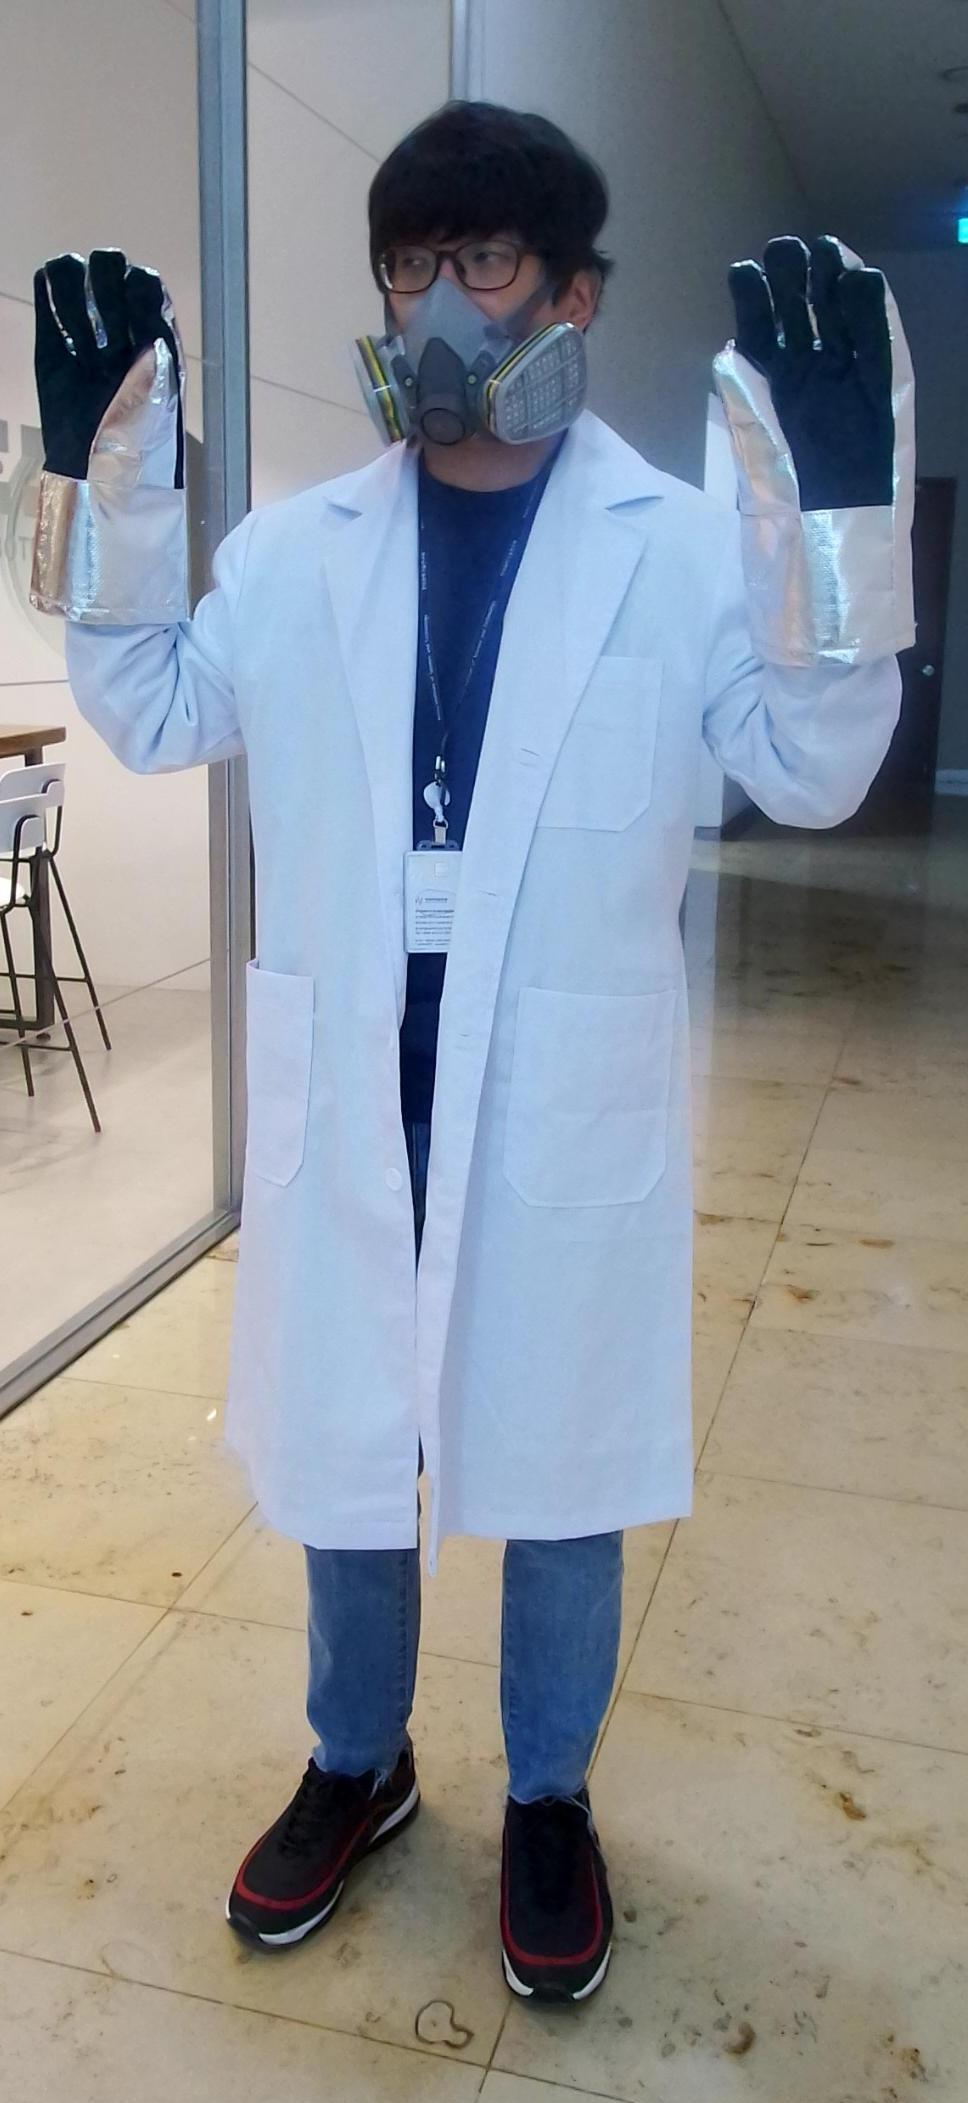lab_coat: (166, 486, 741, 1550)
